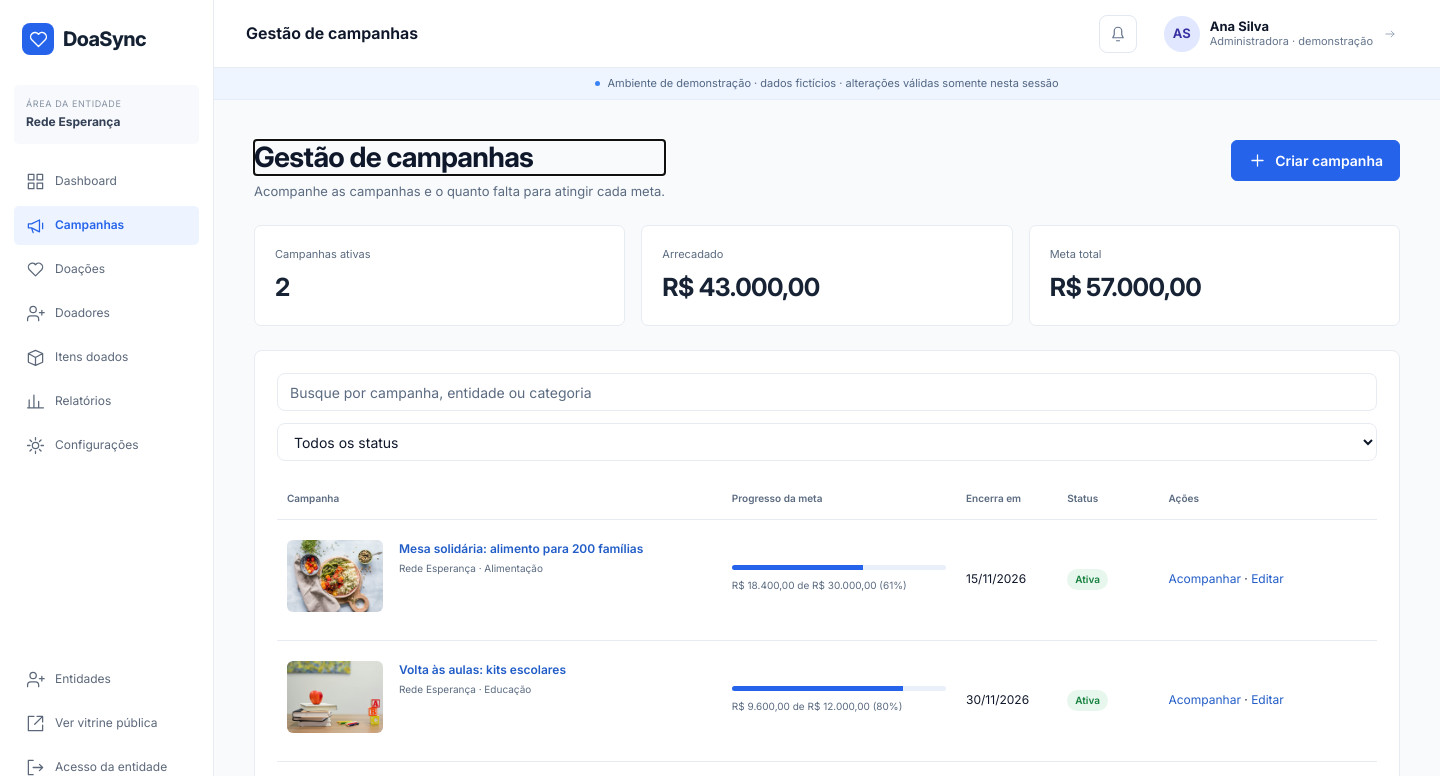
Gestão de campanhas (DEV-CAM-07) › filtra por status e por texto, combinando os dois
Expected: the heading "Gestão de campanhas" is shown, [254, 140, 533, 174]
Step 1. Select "Encerrada" in the dropdown named "Todos os status" → (827, 442), box [277, 423, 1377, 461]
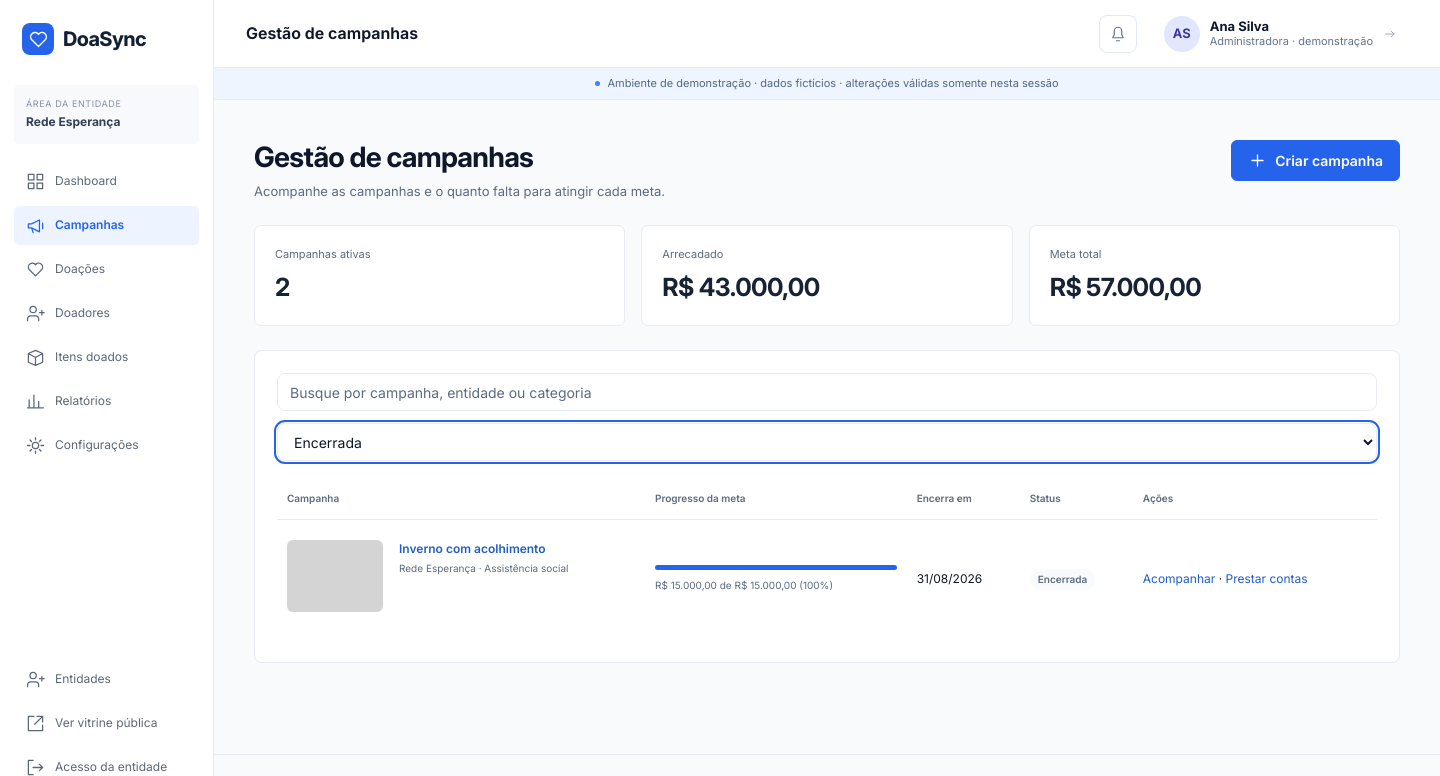
Expected: the text "Inverno com acolhimento" is shown, [399, 541, 546, 556]
Step 2. Select "Todos os status" in the dropdown named "Todos os status" → (827, 442), box [277, 423, 1377, 461]
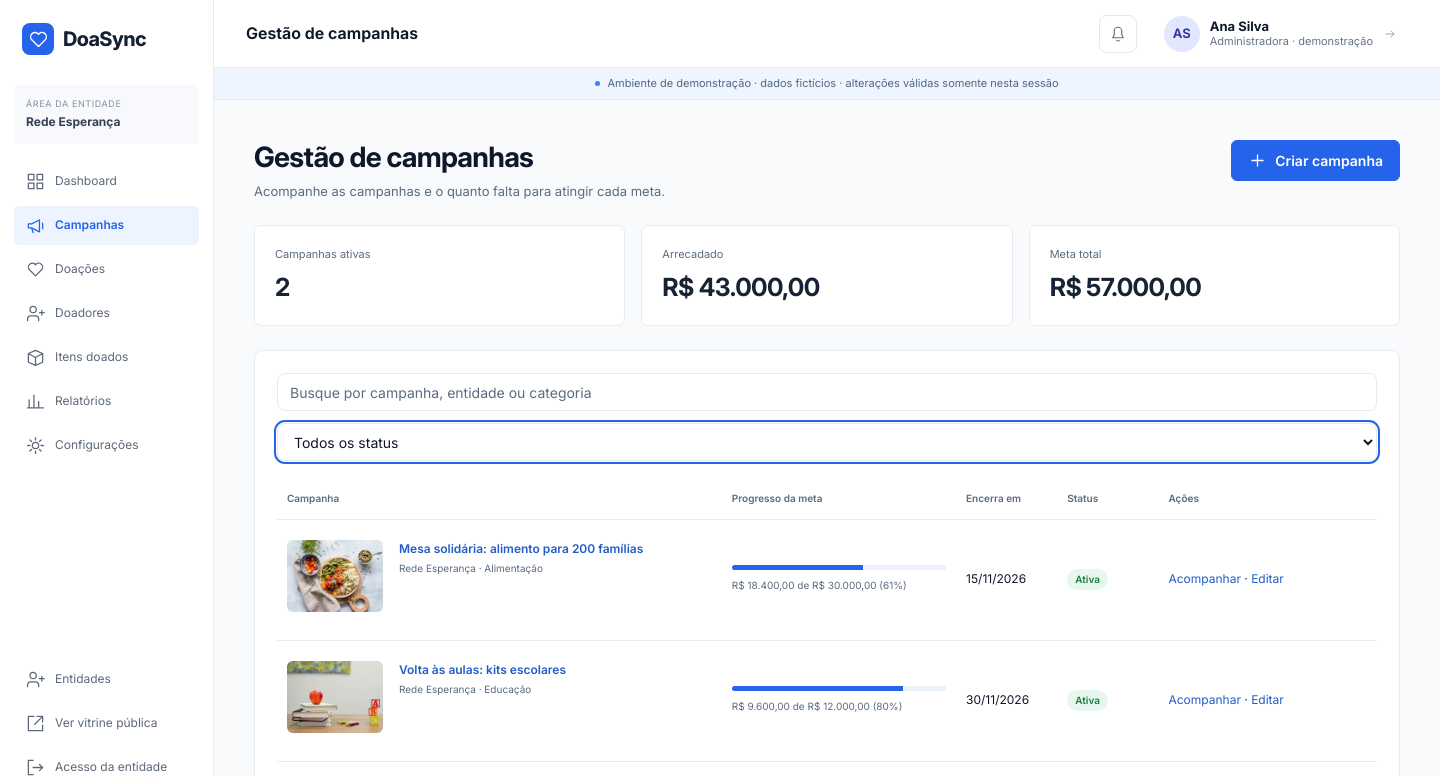
Step 3. Type "EDUCAÇÃO" into the search field labelled "Busque por campanha, entidade ou categoria" → (827, 392), box [277, 373, 1377, 411]
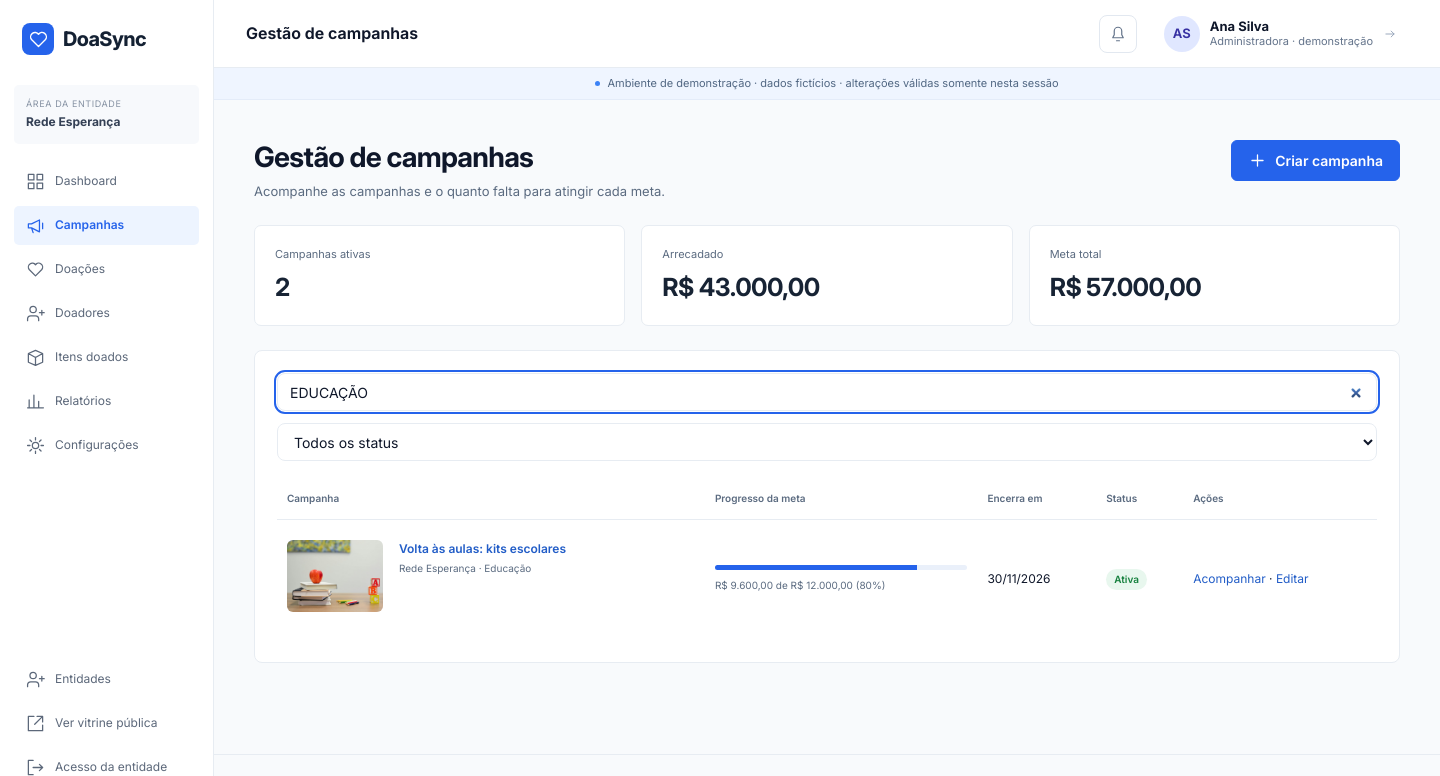
Expected: the text "Volta às aulas: kits escolares" is shown, [399, 541, 566, 556]
Step 4. Select "Encerrada" in the dropdown named "Todos os status" → (827, 442), box [277, 423, 1377, 461]
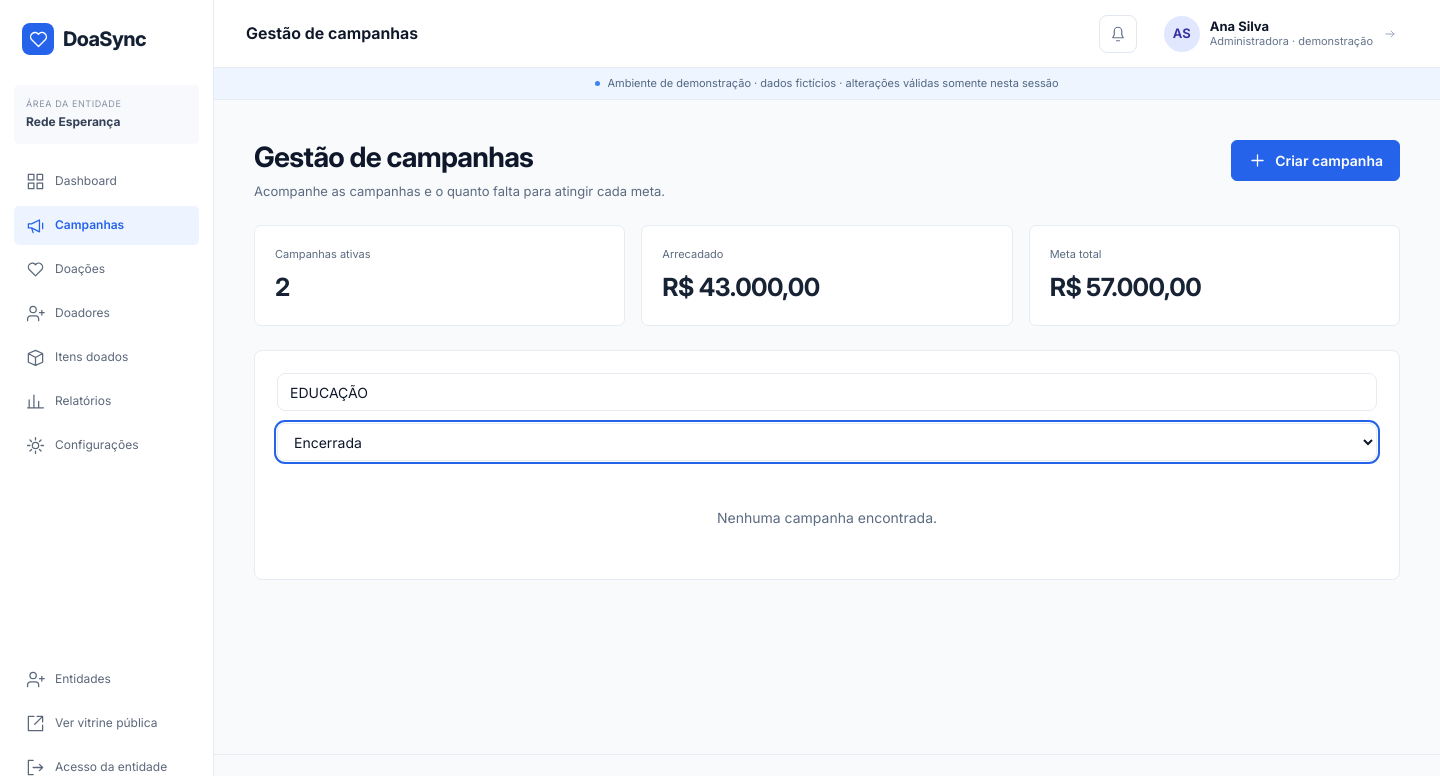
Expected: the text "Nenhuma campanha encontrada." is shown, [717, 509, 937, 526]
Expected: the table is gone
